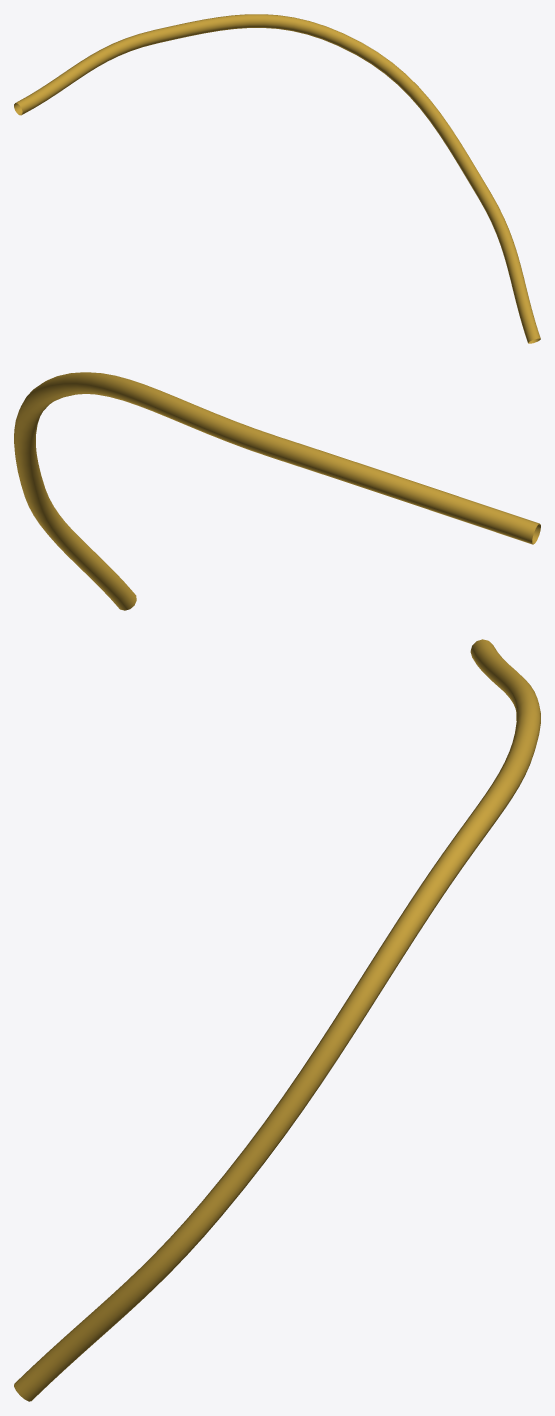
3 renders of one model, top to bottom at view 1: azimuth 30°, elevation 25°; view 2: azimuth 150°, elevation 25°; view 3: azimuth 270°, elevation 25°, orthographic. The views are drawn at different scales.
Visible parts, largest first — view 1: 左侧腋神经肌支; view 2: 左侧腋神经肌支; view 3: 左侧腋神经肌支.
Part boxes in pixels (x1,y1,x2,y2): 左侧腋神经肌支: [14, 14, 540, 343]; 左侧腋神经肌支: [14, 372, 540, 610]; 左侧腋神经肌支: [14, 639, 540, 1401].
Size of the model in its own units: 0.0493 by 0.0317 by 0.0317.
